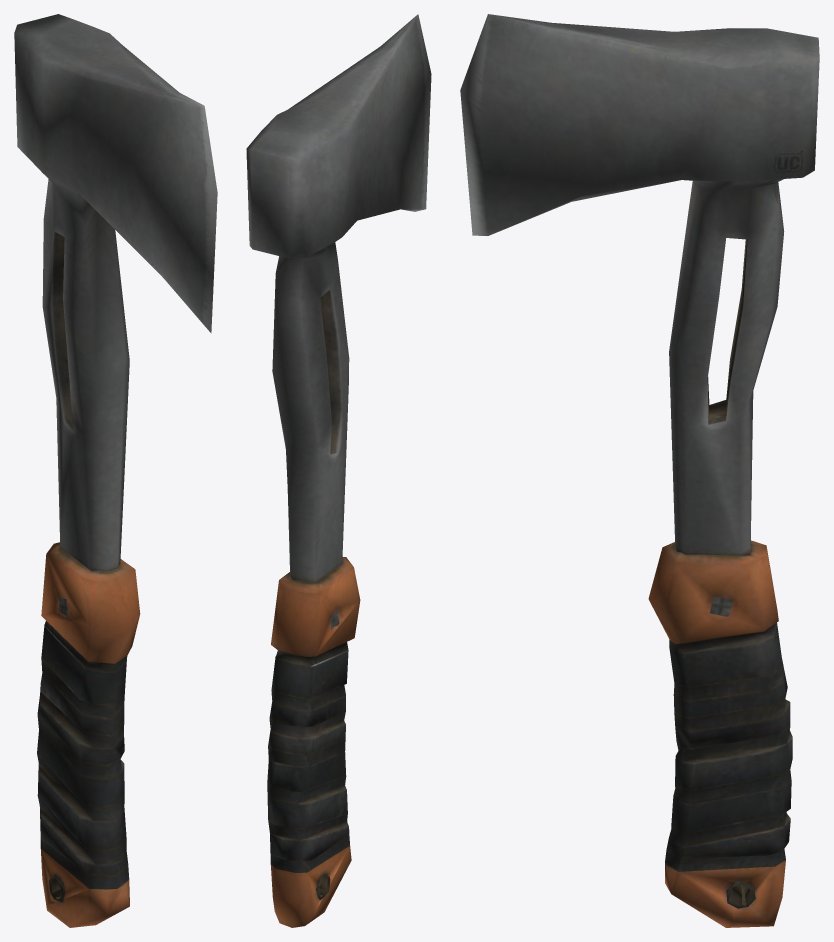
The model's file is weapon_hatchet_01.glb.
The picture shows the model from 3 angles, left to right: view 1: azimuth 30°, elevation 25°; view 2: azimuth 150°, elevation 25°; view 3: azimuth 270°, elevation 25°; orthographic projection. The views are drawn at different scales.
Parts seen in each view (by area): view 1: weapon_hatchet_01; view 2: weapon_hatchet_01; view 3: weapon_hatchet_01.
Boxes of the visible parts, x1,y1,x2,y2 form: weapon_hatchet_01: (14, 14, 217, 927); weapon_hatchet_01: (246, 14, 431, 927); weapon_hatchet_01: (460, 14, 819, 927).
Bounding box in the file's own units: 0.026 × 0.2885 × 0.1034.
1 material, 1 textured.
